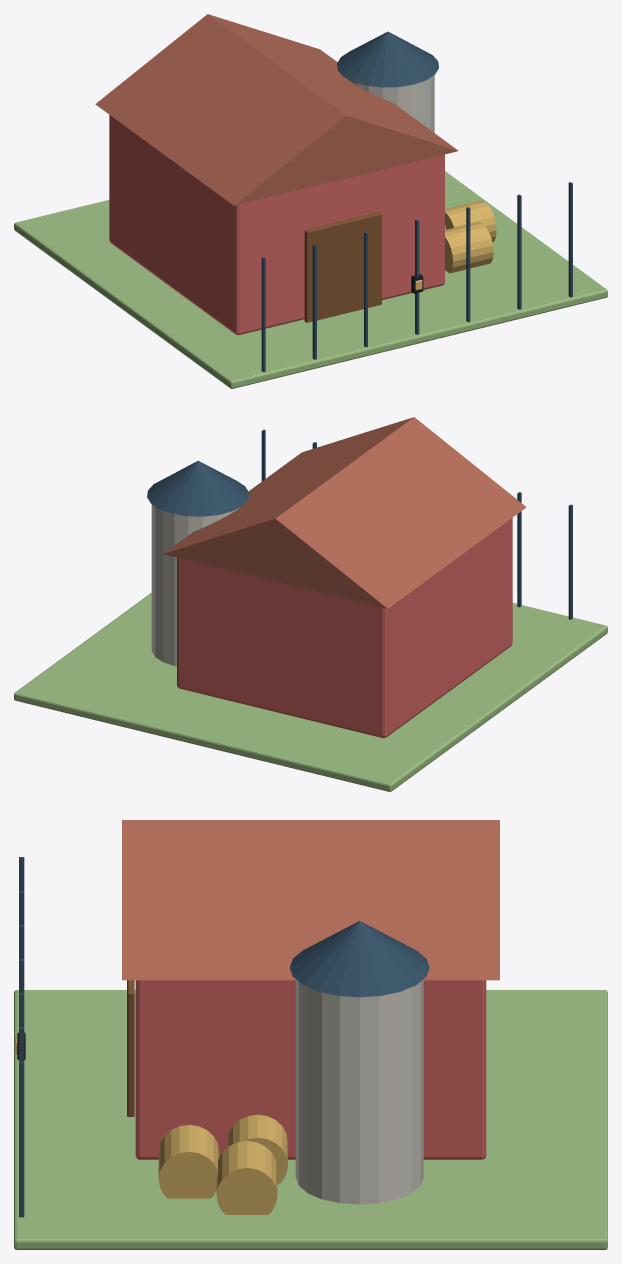
The model's file is AGR_BARN_2x2_001.glb.
The picture shows the model from 3 angles, top to bottom: view 1: azimuth 30°, elevation 25°; view 2: azimuth 150°, elevation 25°; view 3: azimuth 270°, elevation 25°; orthographic projection. The views are drawn at different scales.
Parts seen in each view (by area): view 1: AGR_BARN_2x2_001_Visual; view 2: AGR_BARN_2x2_001_Visual; view 3: AGR_BARN_2x2_001_Visual.
Part boxes in pixels (x1,y1,x2,y2): AGR_BARN_2x2_001_Visual: [14, 14, 607, 388]; AGR_BARN_2x2_001_Visual: [14, 417, 607, 791]; AGR_BARN_2x2_001_Visual: [14, 820, 607, 1249].
Size of what is drawn, in the model's own units: 3.9 by 2.05 by 3.9.
